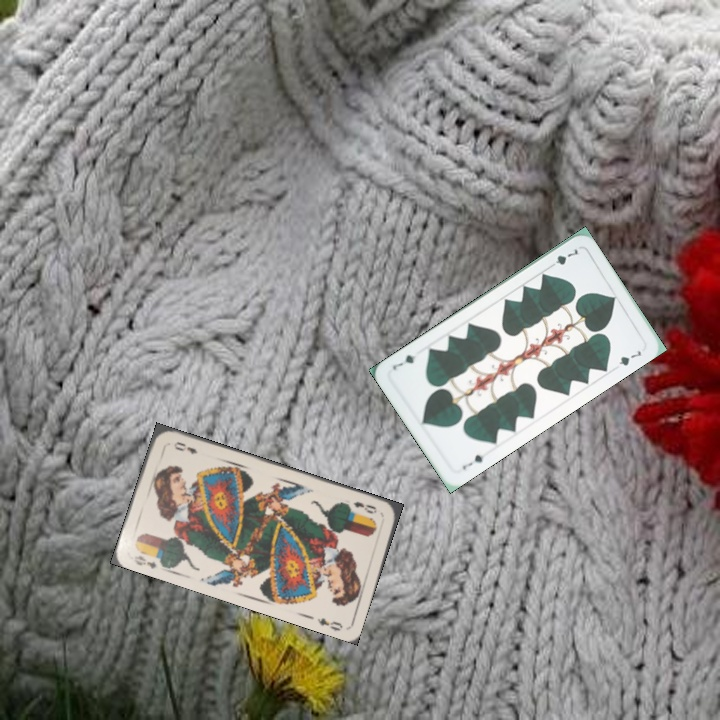EO: (130, 551, 159, 572), (349, 497, 379, 516)
G7: (545, 244, 581, 271), (458, 451, 486, 473)
